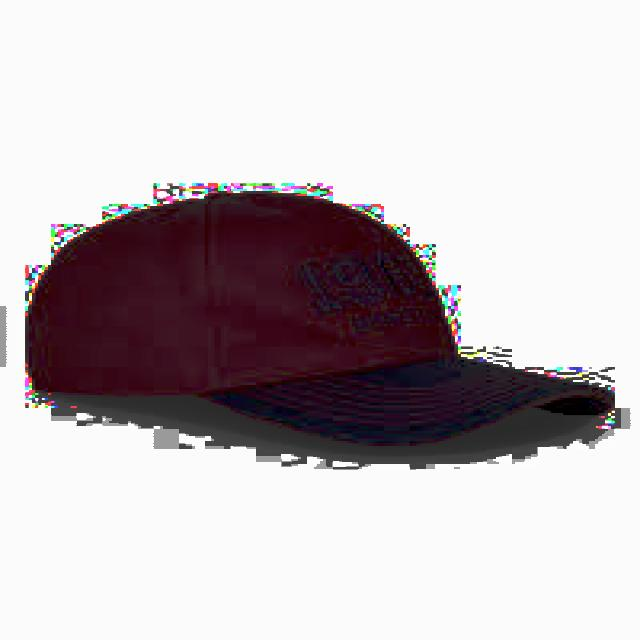TOPI: (13, 186, 621, 451)
